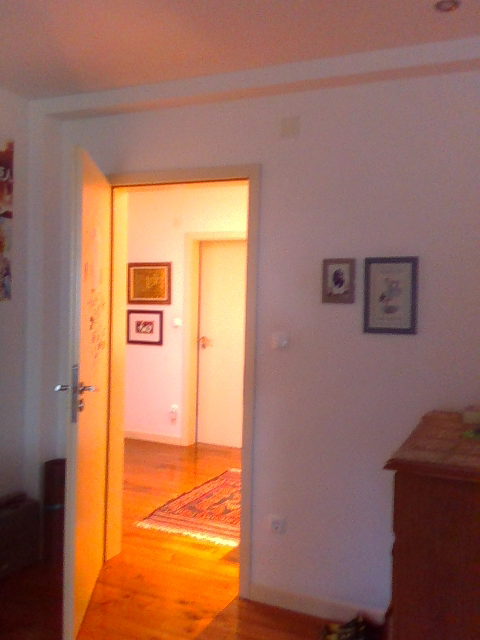open: (58, 154, 256, 639)
